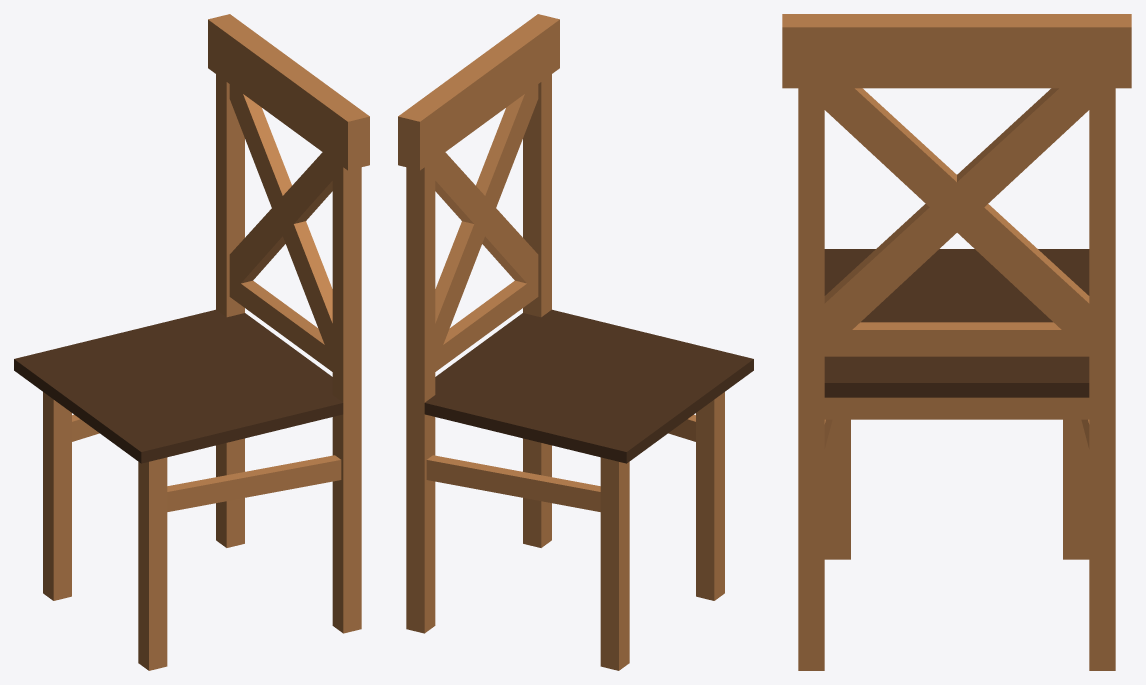
File: chair.glb
3 views of the same model, side by side, from view 1: azimuth 30°, elevation 25°; view 2: azimuth 150°, elevation 25°; view 3: azimuth 270°, elevation 25° (orthographic). The views are drawn at different scales.
Visible parts, largest first — view 1: Cube; view 2: Cube; view 3: Cube.
Boxes of the visible parts, box(x1,y1,x2,y2) form: Cube: box(14, 14, 369, 670); Cube: box(398, 14, 753, 670); Cube: box(782, 14, 1131, 670).
Bounding box in the file's own units: 0.4033 × 0.8965 × 0.44.
